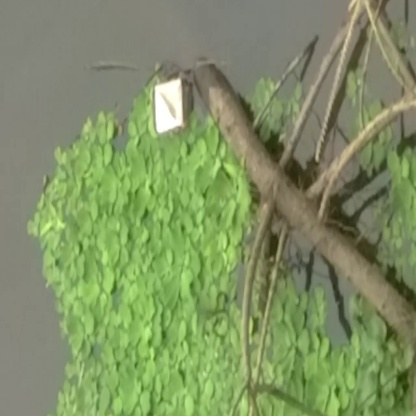branch: (194, 63, 416, 341)
